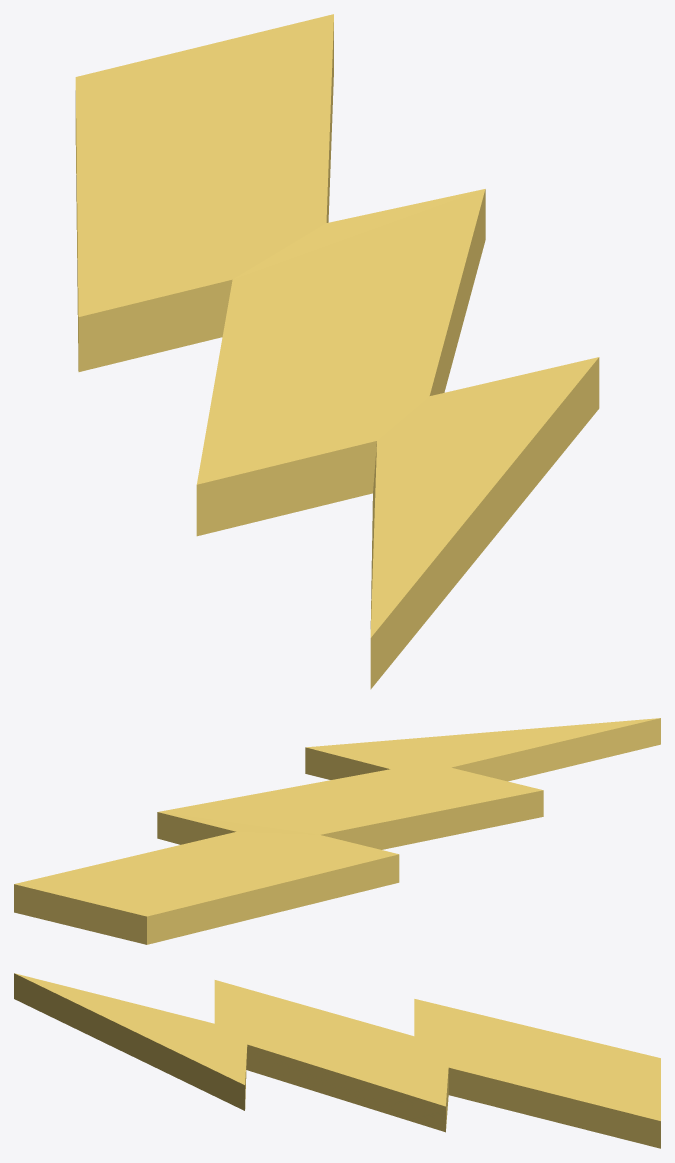
Rendered from SM_ResourceElectricity.FBX.
The picture shows the model from 3 angles, top to bottom: view 1: azimuth 30°, elevation 25°; view 2: azimuth 150°, elevation 25°; view 3: azimuth 270°, elevation 25°; orthographic projection. The views are drawn at different scales.
Parts seen in each view (by area): view 1: SM_Electricity; view 2: SM_Electricity; view 3: SM_Electricity.
Part boxes in pixels (box(x1,y1,x2,y2)): SM_Electricity: box(75, 14, 599, 689); SM_Electricity: box(14, 718, 660, 944); SM_Electricity: box(14, 973, 660, 1148).
Size of the model in its own units: 7.73 by 14.18 by 0.6661.
